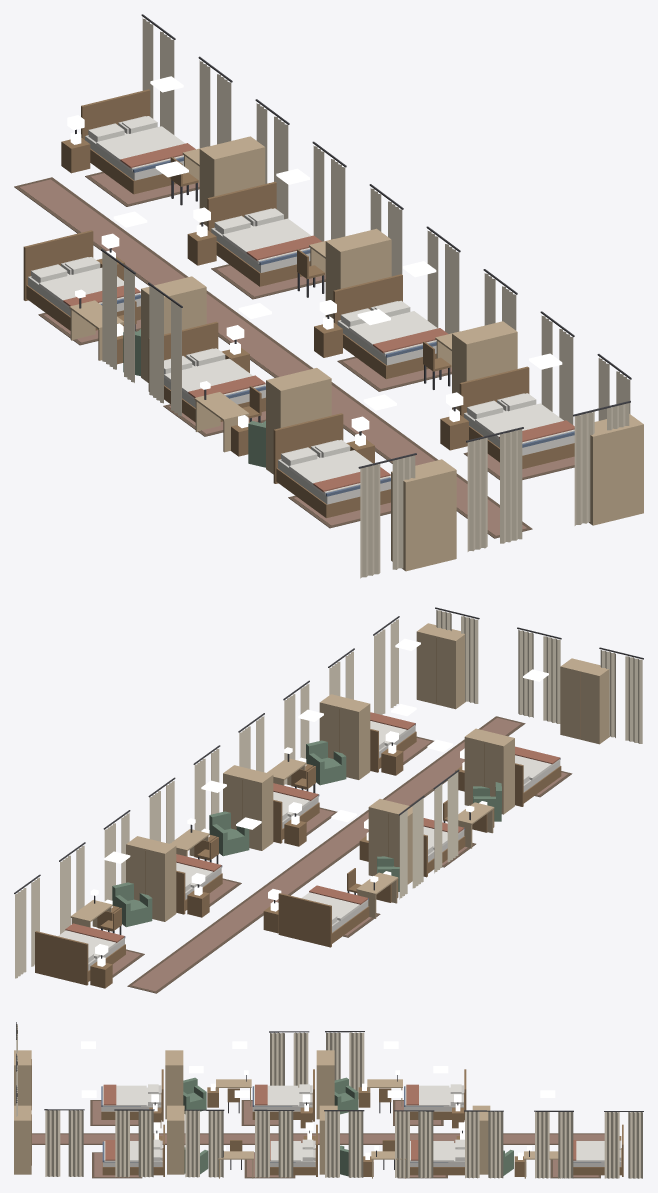
File: fine-s3.glb
The picture shows the model from 3 angles, top to bottom: view 1: azimuth 30°, elevation 25°; view 2: azimuth 150°, elevation 25°; view 3: azimuth 270°, elevation 25°; orthographic projection. The views are drawn at different scales.
Visible parts, largest first — view 1: soft-s3, dresser.016, dresser.020, bed-frame.016, bed-frame.018, bed-frame.019, bed-frame.020, bed-frame.017, dresser.015, dresser.018, dresser.017, dresser.019 (+10 smaller); view 2: soft-s3, dresser.016, dresser.020, dresser.019, dresser.017, dresser.015, dresser.018, bed-frame.014, bed-frame.017, dresser.014, lounge-chair.012, lounge-chair.014 (+16 smaller); view 3: soft-s3, dresser.019, dresser.020, dresser.014, dresser.015, dresser.016, bed-frame.014, dresser.017, bed-frame.020, bed-frame.016, lounge-chair.010, lounge-chair.011 (+18 smaller).
Boxes of the visible parts, x1=… form: soft-s3: x1=14, y1=14, x2=631, y2=578; dresser.016: x1=391, y1=459, x2=456, y2=571; dresser.020: x1=588, y1=414, x2=643, y2=525; bed-frame.016: x1=273, y1=413, x2=390, y2=518; bed-frame.018: x1=207, y1=182, x2=310, y2=286; bed-frame.019: x1=333, y1=274, x2=436, y2=379; bed-frame.020: x1=459, y1=366, x2=574, y2=468; bed-frame.017: x1=81, y1=89, x2=183, y2=194; dresser.015: x1=266, y1=368, x2=331, y2=474; dresser.018: x1=325, y1=228, x2=391, y2=318; dresser.017: x1=199, y1=136, x2=265, y2=226; dresser.019: x1=452, y1=321, x2=517, y2=410; soft-s3: x1=14, y1=607, x2=643, y2=993; dresser.016: x1=560, y1=658, x2=609, y2=744; dresser.020: x1=416, y1=623, x2=465, y2=709; dresser.019: x1=319, y1=694, x2=370, y2=779; dresser.017: x1=126, y1=836, x2=176, y2=921; dresser.015: x1=464, y1=728, x2=514, y2=814; dresser.018: x1=223, y1=765, x2=273, y2=850; bed-frame.014: x1=278, y1=893, x2=369, y2=947; bed-frame.017: x1=35, y1=931, x2=125, y2=985; dresser.014: x1=368, y1=799, x2=412, y2=884; lounge-chair.012: x1=112, y1=882, x2=152, y2=927; lounge-chair.014: x1=306, y1=740, x2=346, y2=785; soft-s3: x1=16, y1=1022, x2=643, y2=1178; dresser.019: x1=167, y1=1105, x2=184, y2=1174; dresser.020: x1=14, y1=1105, x2=31, y2=1174; dresser.014: x1=316, y1=1050, x2=334, y2=1119; dresser.015: x1=165, y1=1050, x2=183, y2=1119; dresser.016: x1=14, y1=1050, x2=31, y2=1109; bed-frame.014: x1=404, y1=1069, x2=466, y2=1121; dresser.017: x1=472, y1=1105, x2=490, y2=1174; bed-frame.020: x1=102, y1=1124, x2=164, y2=1176; bed-frame.016: x1=101, y1=1069, x2=163, y2=1121; lounge-chair.010: x1=334, y1=1077, x2=358, y2=1114; lounge-chair.011: x1=183, y1=1077, x2=206, y2=1113.
Bounding box in the file's own units: 7.11 × 2.62 × 21.2.
